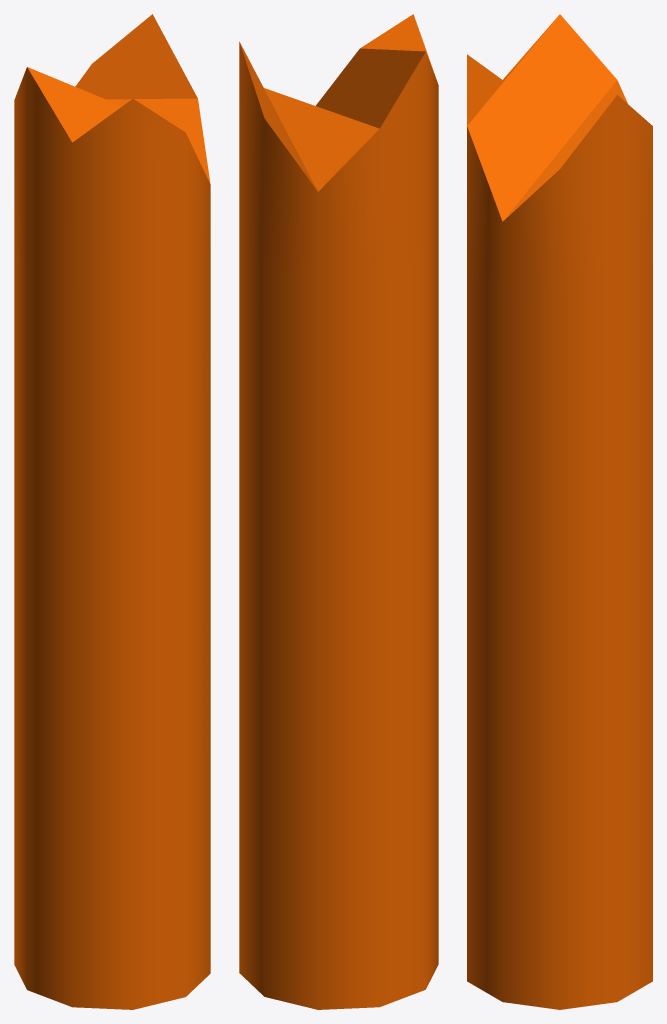
File: Poste reventao 2.fbx
The picture shows the model from 3 angles, left to right: view 1: azimuth 30°, elevation 25°; view 2: azimuth 150°, elevation 25°; view 3: azimuth 270°, elevation 25°; orthographic projection. The views are drawn at different scales.
Visible parts, largest first — view 1: Object001; view 2: Object001; view 3: Object001.
Boxes of the visible parts, bbox=[...] form: Object001: bbox=[14, 14, 210, 1009]; Object001: bbox=[239, 14, 438, 1009]; Object001: bbox=[467, 14, 652, 1009].
Bounding box in the file's own units: 17.94 × 92.59 × 17.06.
